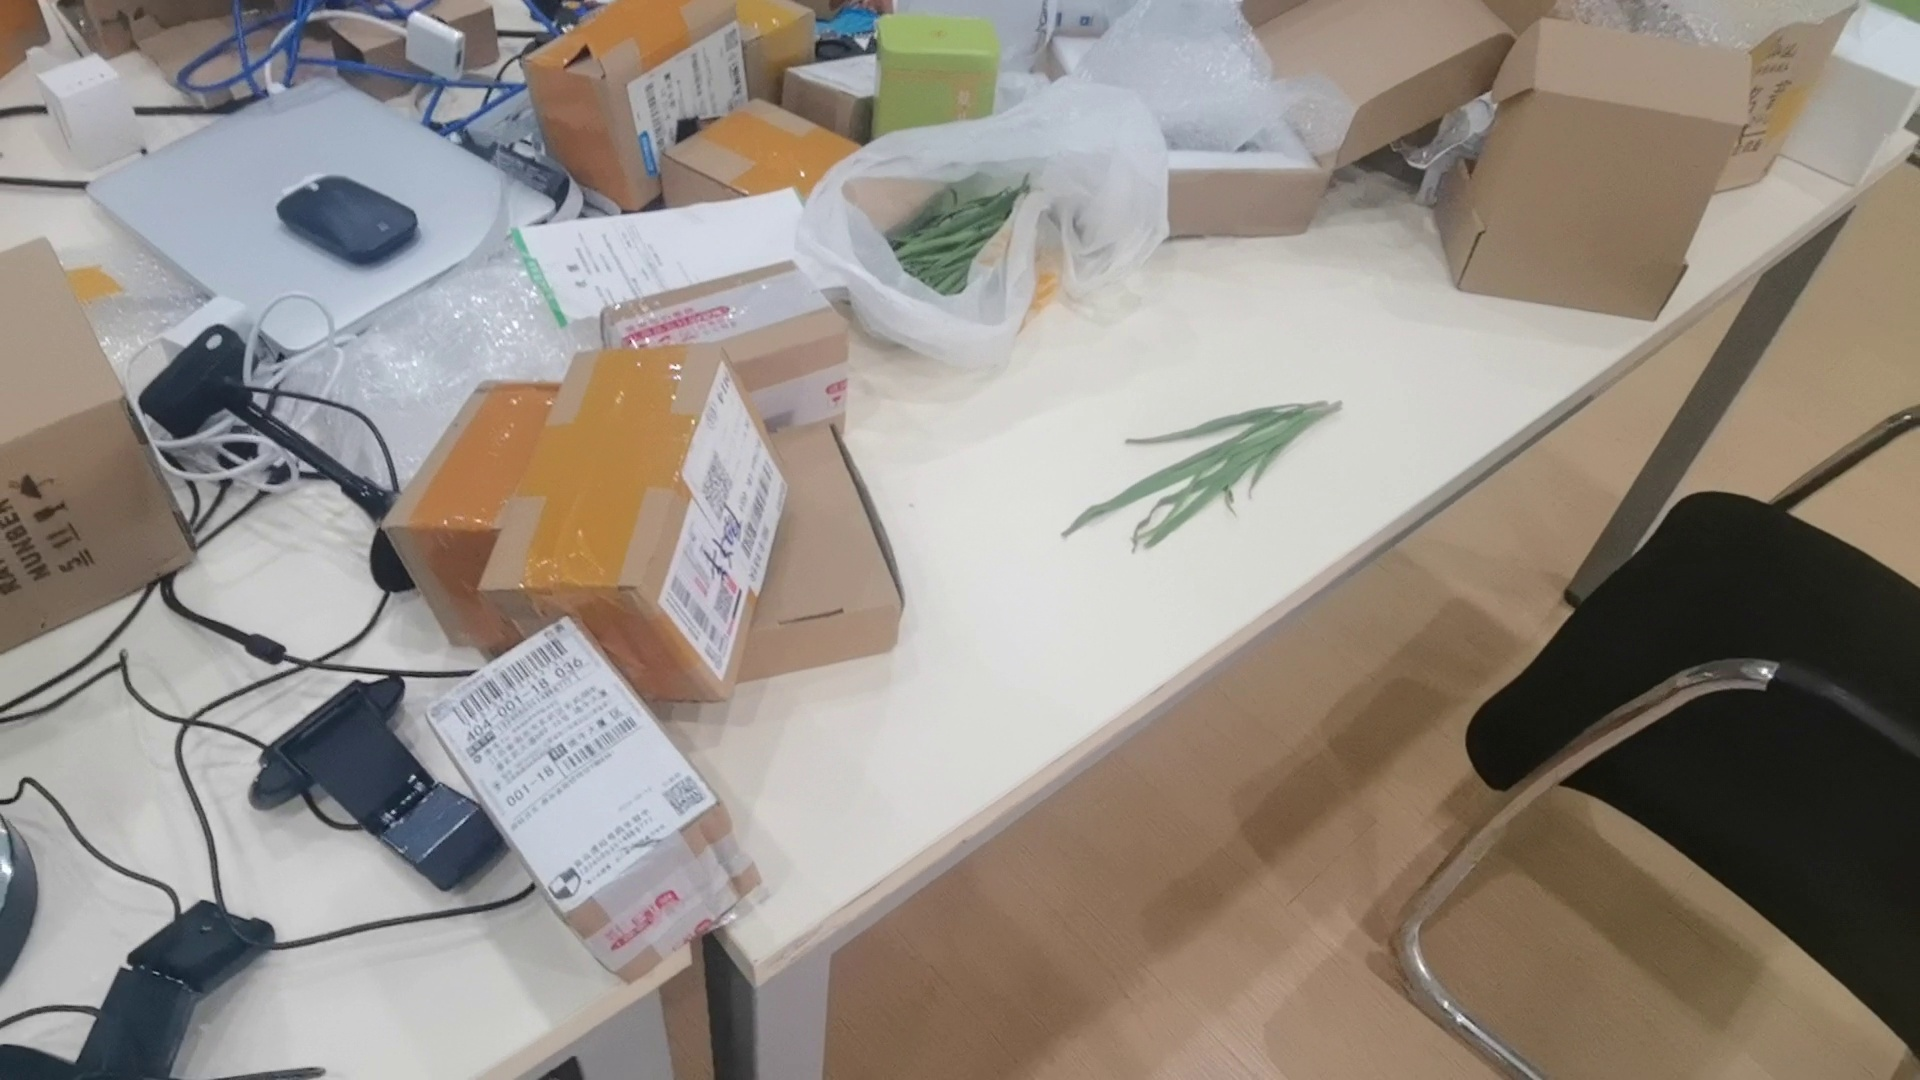chives: (1048, 402, 1360, 564)
